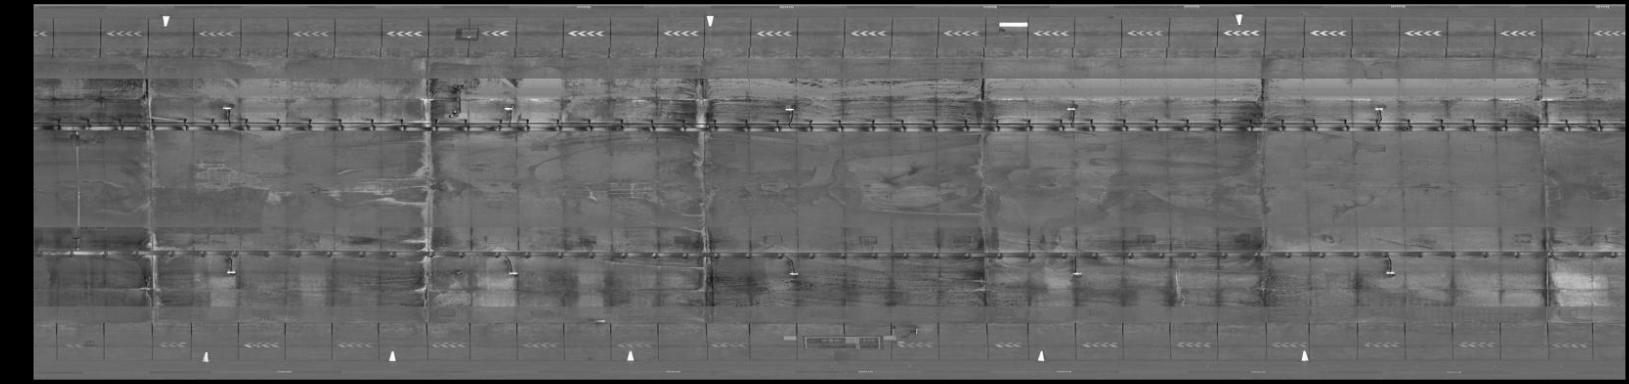light: (220, 265, 246, 281), (497, 104, 520, 115), (501, 268, 524, 279), (1381, 266, 1399, 279), (1066, 268, 1086, 279), (219, 102, 237, 114), (783, 269, 804, 279), (1060, 104, 1080, 113), (782, 104, 799, 115), (1368, 105, 1388, 114)
